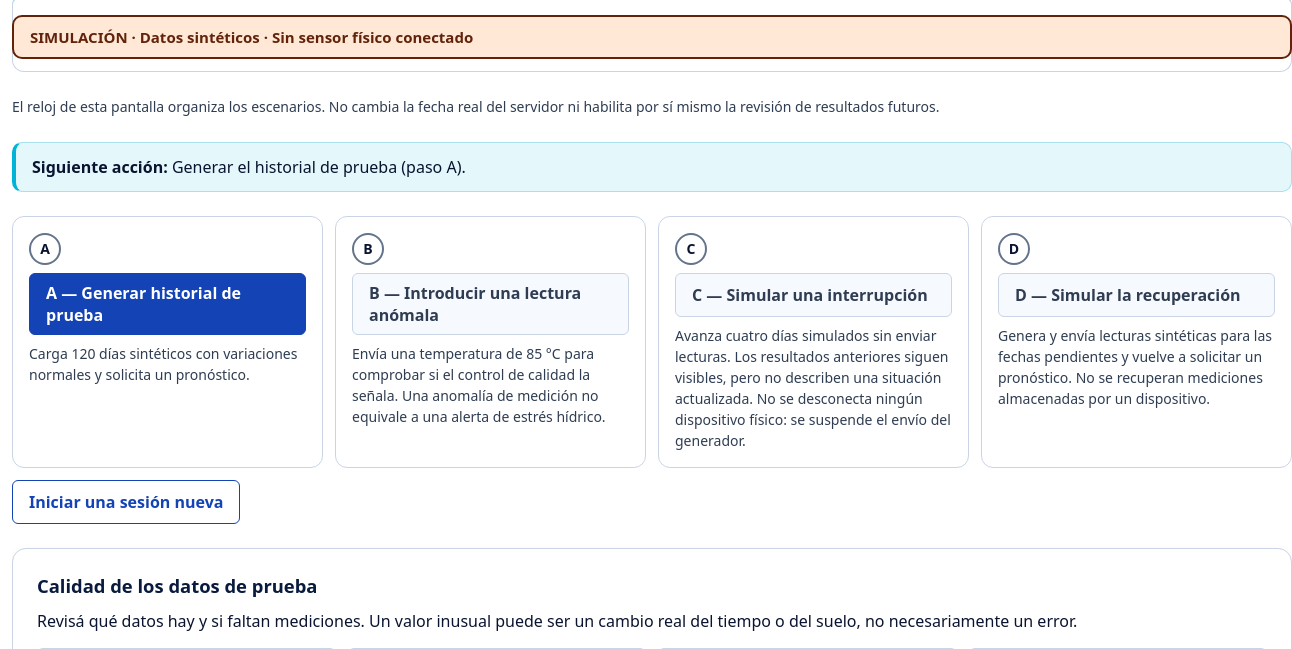
SensorLabPage › scenario B: shows the real backend out_of_range reason when the injected reading is flagged
The width and height of the screenshot is (1292, 649).
(page scrolled)
Click the button "A — Generar historial de prueba" at x=168, y=304, box [29,273,306,335]
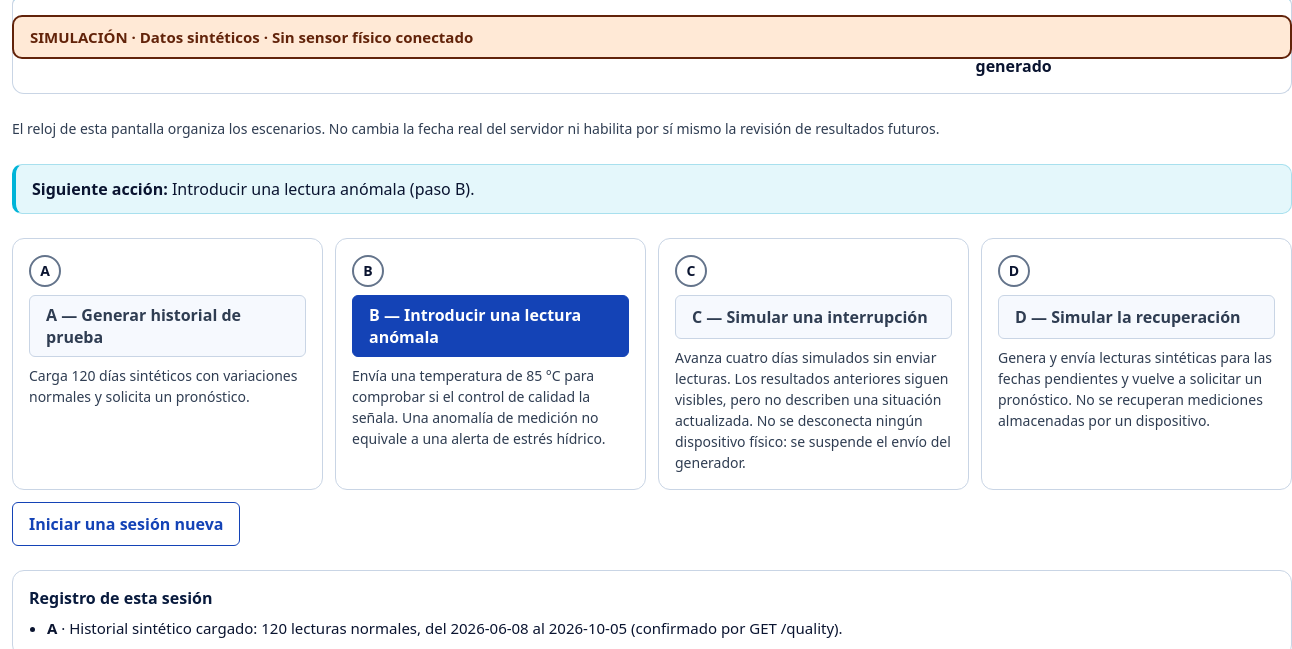
Click the button "B — Introducir una lectura anómala" at x=490, y=326, box [352,295,629,357]
(page scrolled)
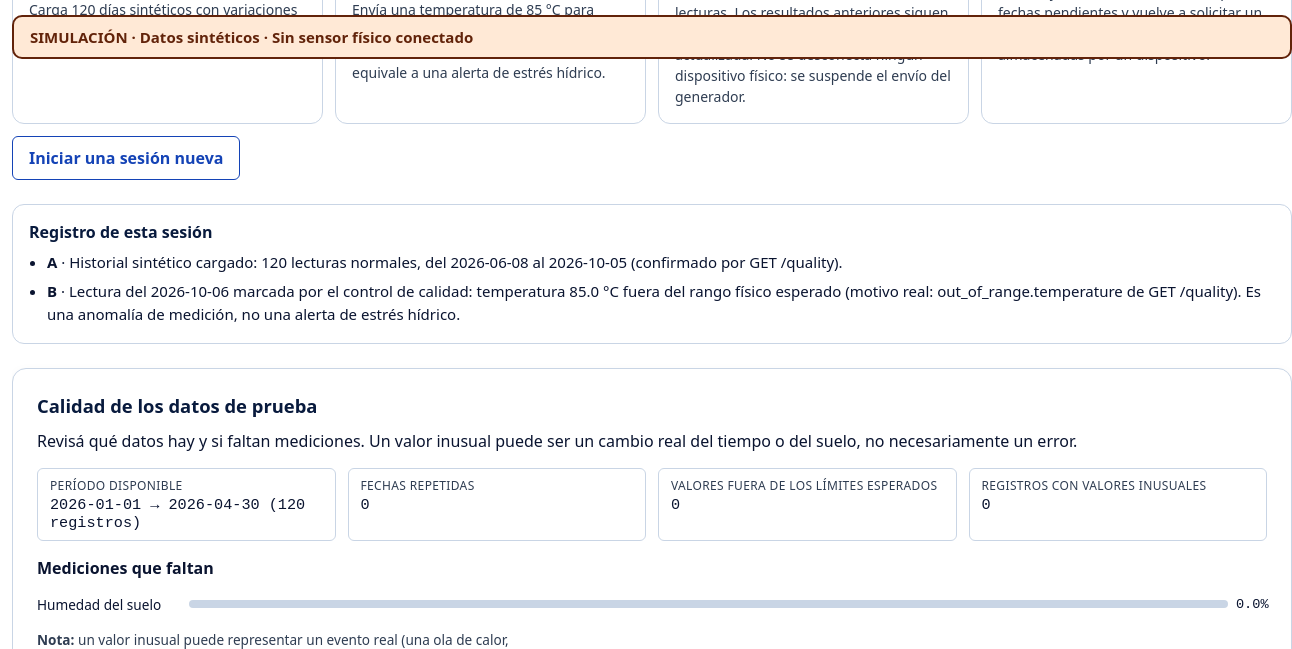
Expected: the list item "marcada por el control de calidad" is shown, [47,281,1261,324]
